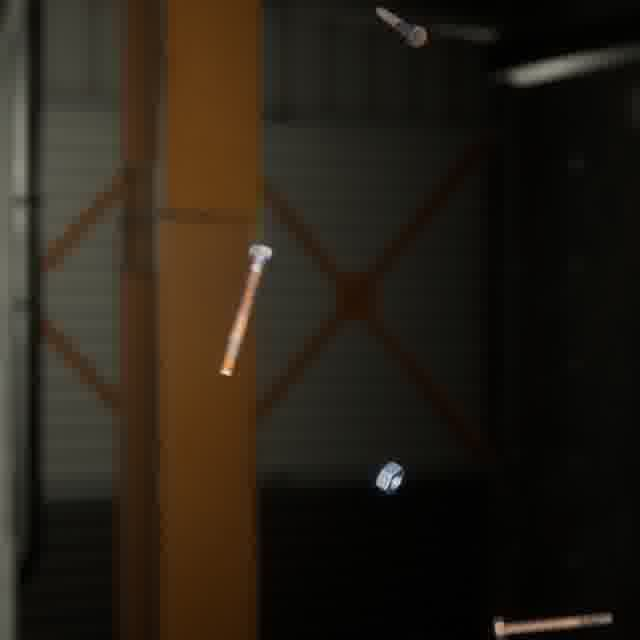bolt: (213, 240, 277, 384), (489, 607, 617, 640), (371, 3, 431, 52)
nut: (371, 456, 409, 499)
